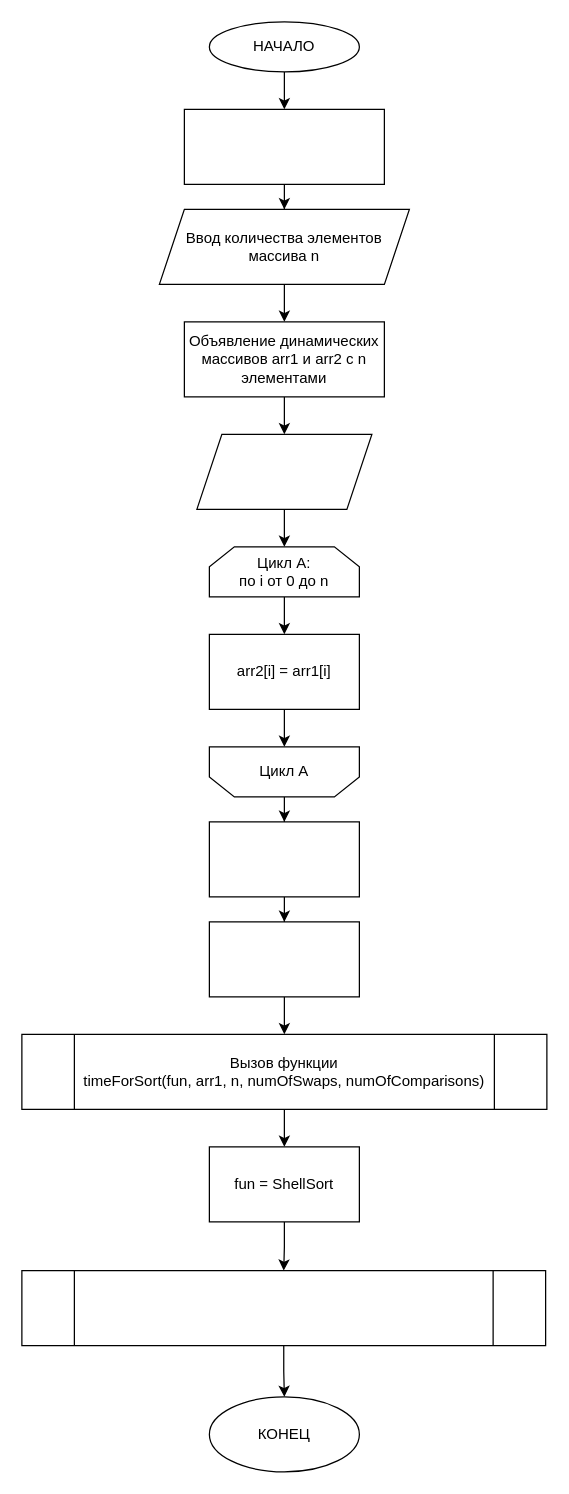
Some shapes in this 569 by 1494 pixel diagram are drawn without their labels. The box of each missing label's shape, as (x1, y1, x2, y2) in pixels:
fun = chooseSort: (208, 921, 359, 997)
Ввод элементов массива arr1: (196, 433, 372, 509)
Вызов функции timeForSort(fun, arr2, n, numOfSwaps, numOfComparisons): (21, 1269, 546, 1346)
Объявление переменных numOfSwap = 0, numOfComparisons = 0, n: (183, 108, 384, 184)
Объявление указателя на функцию fun: (208, 821, 359, 897)
